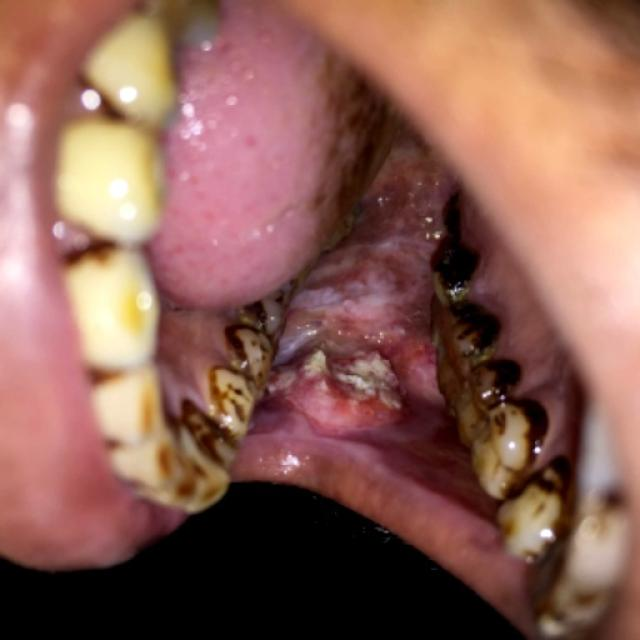cancer-detection: (262, 136, 464, 439)
processing_area: (176, 0, 463, 473)
